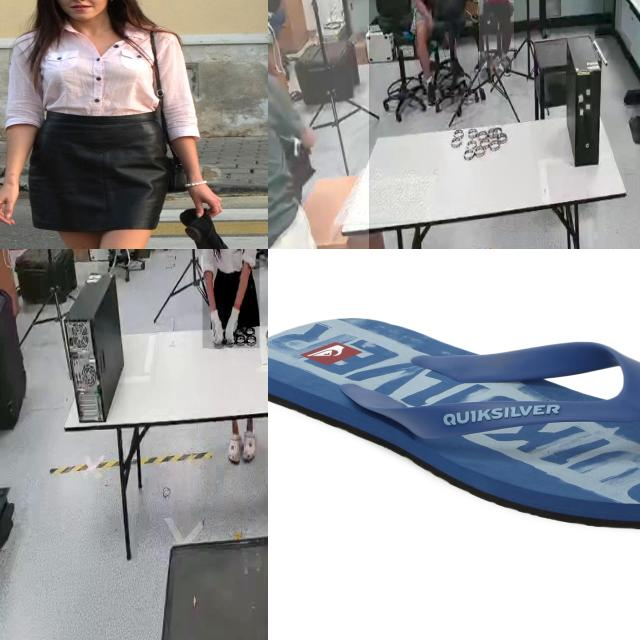Sandals: (268, 315, 640, 531)
hand_glove: (209, 304, 225, 354), (227, 304, 241, 347)
person: (268, 0, 369, 249), (407, 0, 468, 99), (202, 249, 259, 349), (479, 0, 514, 69)
shoes: (104, 249, 118, 270), (117, 249, 131, 266)
